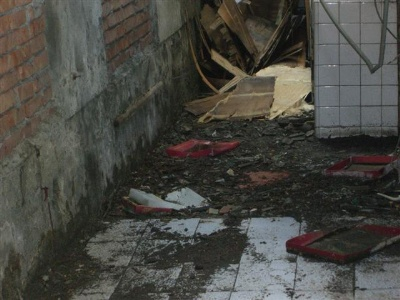box: (122, 196, 173, 216)
